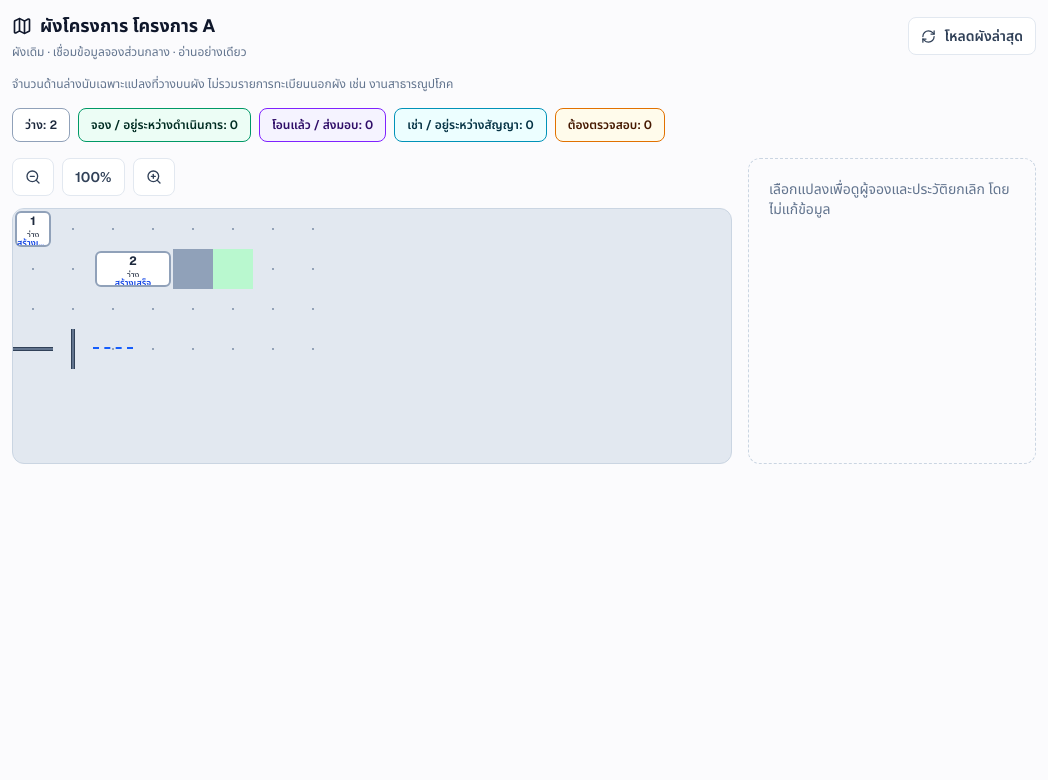
Test case: canonical rental links on read-only map › keeps exact ended rental history link available for owner read role
What coordinates should you click on to do the following:
click the button with aria-label "แปลง 2 — ว่าง"
I would click on:
 (133, 269)
Its box is [93, 249, 173, 289].
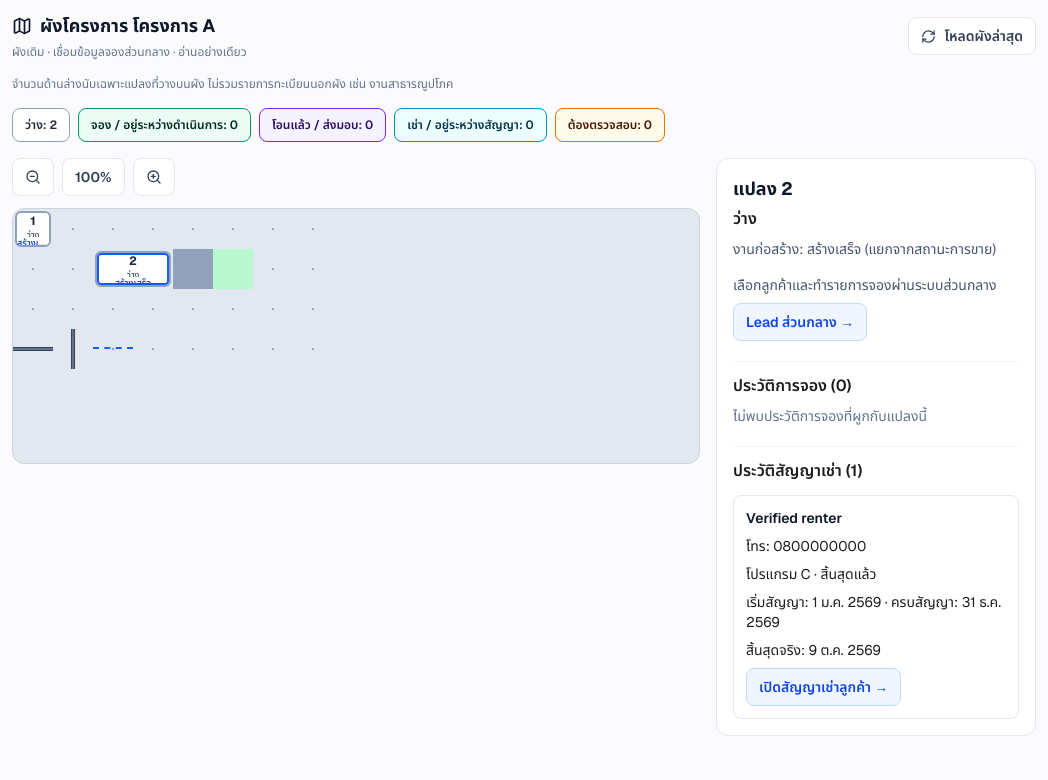
expect the text "โปรแกรม C · สิ้นสุดแล้ว" is shown: met, box [746, 565, 876, 583]
